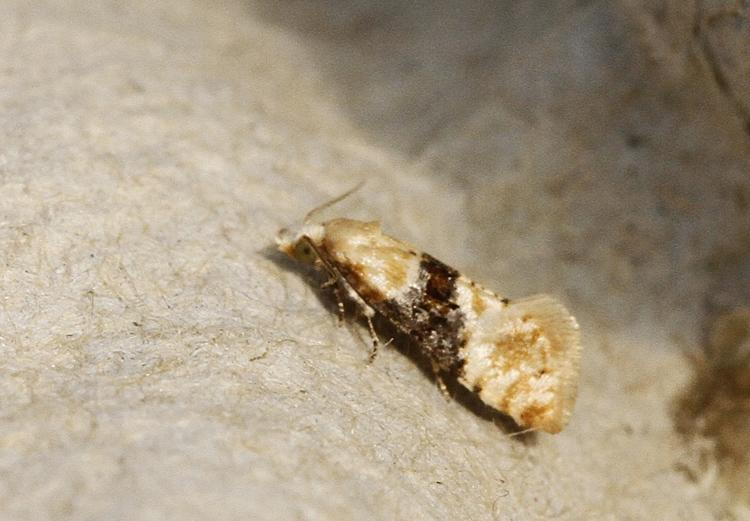Eupoecilia Ambiguella: (269, 175, 588, 442)
